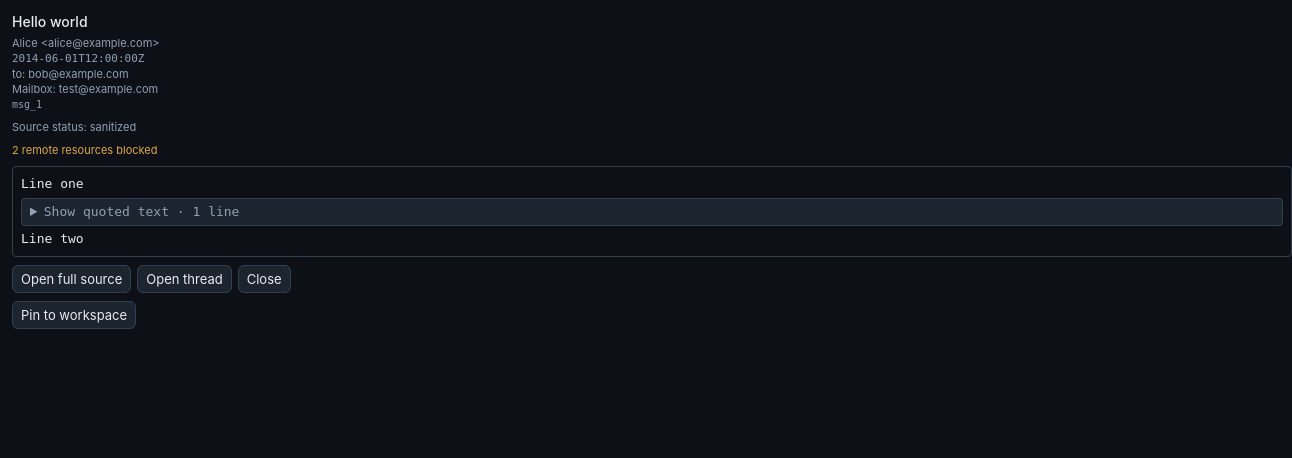
Test: InspectorPanel flow › pins message source to a workspace via menu
Click the button with test id "pin-to-workspace-btn" at (74, 315), box [12,301,136,329]
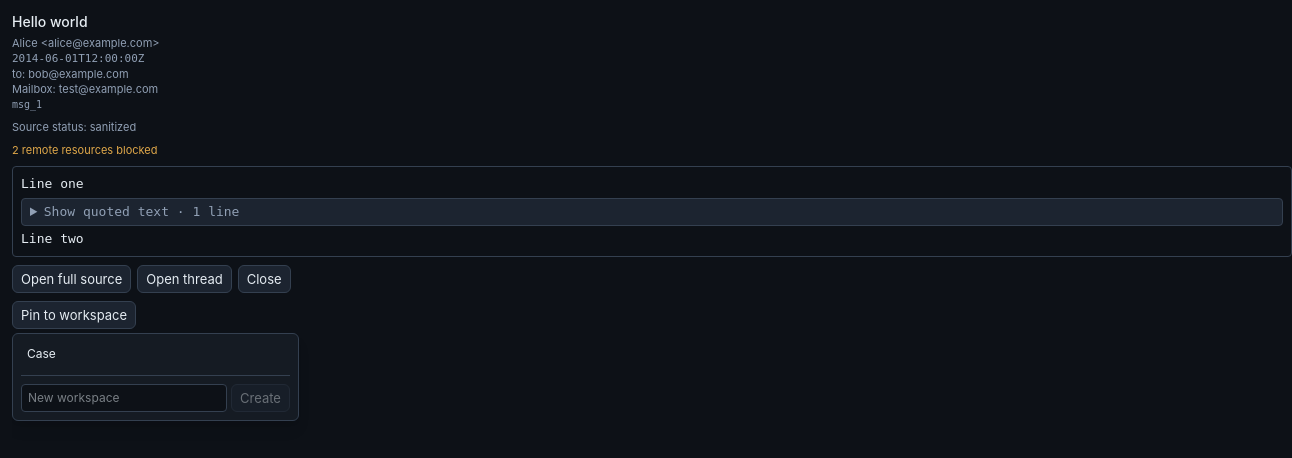
Expected: the menu with test id "pin-workspace-menu" is shown, [12,333,299,421]
Click the menu item with test id "pin-workspace-ws-1" at (41, 354), box [21,342,290,367]
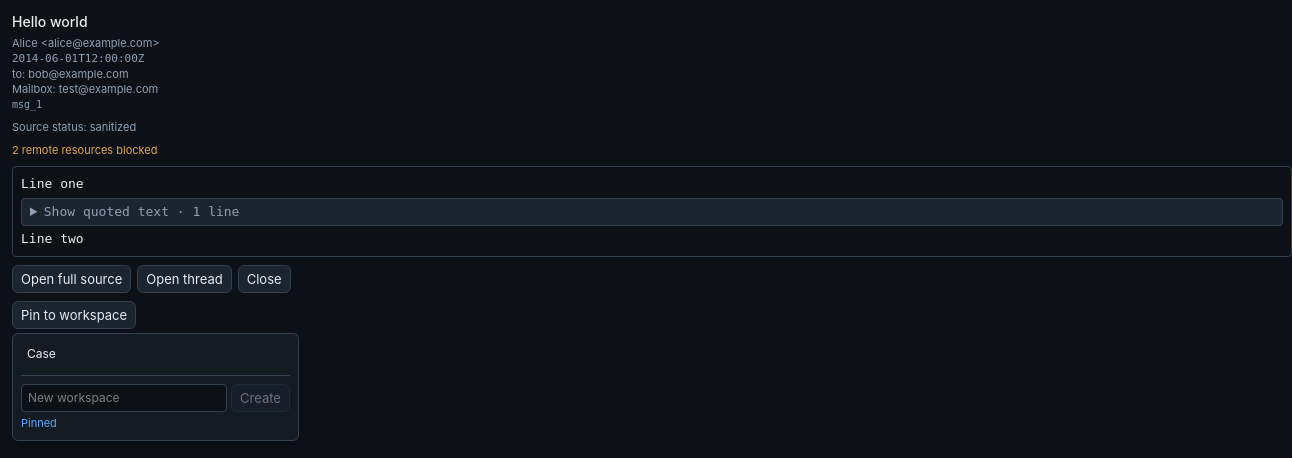
Expected: the text "msg_1" is shown, [12,99,42,110]
Expected: the text with test id "pin-status" reads "Pinned", [21,416,57,430]
